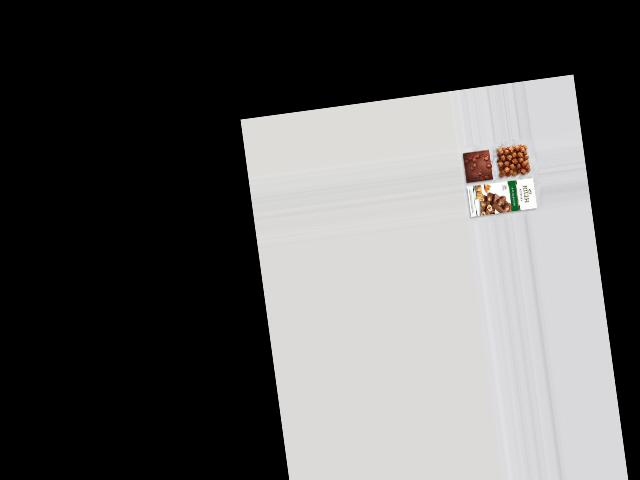chocolate: (460, 146, 493, 184)
